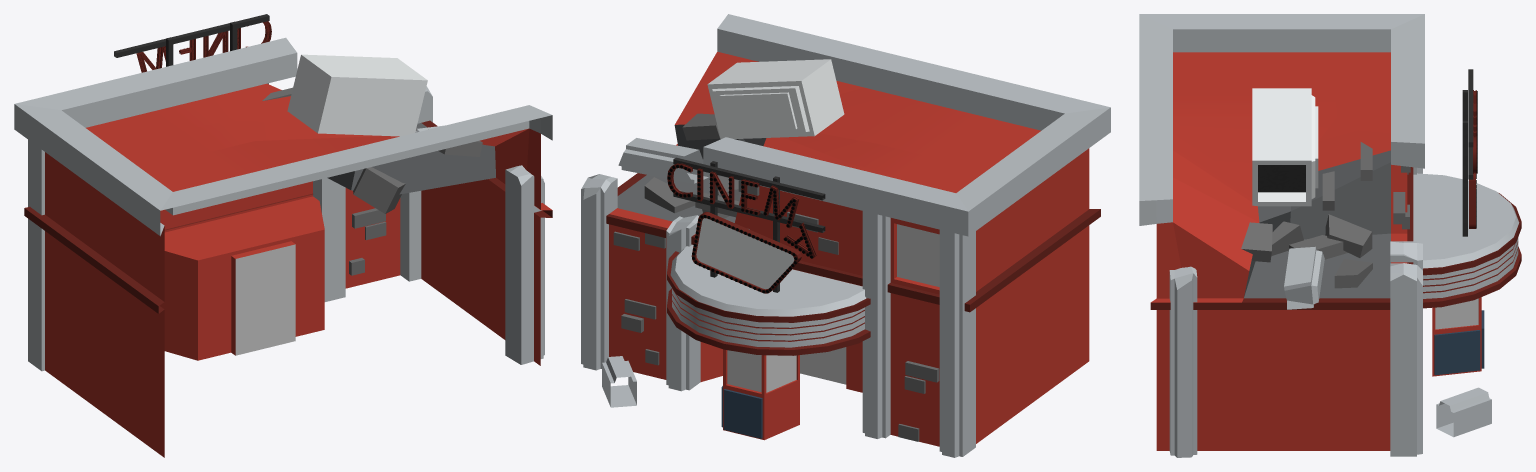
File: O_cinema.fbx
3 views of the same model, side by side, from view 1: azimuth 30°, elevation 25°; view 2: azimuth 150°, elevation 25°; view 3: azimuth 270°, elevation 25° (orthographic). The views are drawn at different scales.
Visible parts, largest first — view 1: pCylinder177; view 2: pCylinder177; view 3: pCylinder177.
Part boxes in pixels (<box>): pCylinder177: <box>14,14,552,457</box>; pCylinder177: <box>581,14,1110,457</box>; pCylinder177: <box>1139,14,1521,457</box>.
Size of the model in its own units: 3285 by 2224 by 2694.
